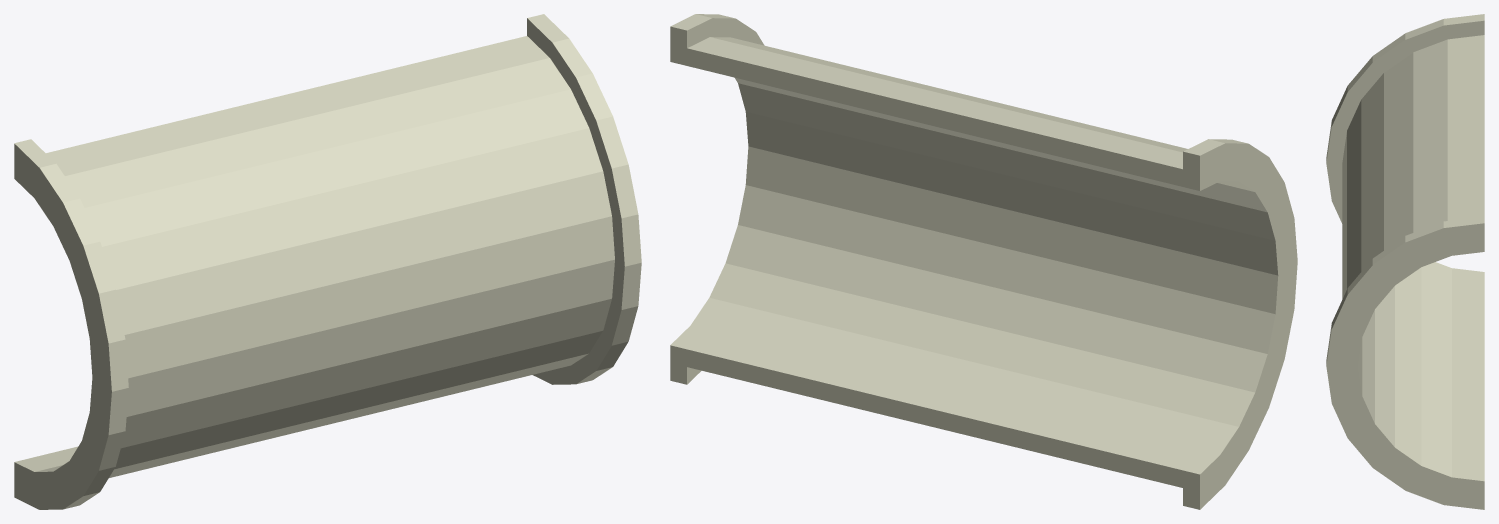
File: section_189.obj
3 views of the same model, side by side, from view 1: azimuth 30°, elevation 25°; view 2: azimuth 150°, elevation 25°; view 3: azimuth 270°, elevation 25° (orthographic). The views are drawn at different scales.
Bounding box in the file's own units: 31.31 × 20 × 10.
